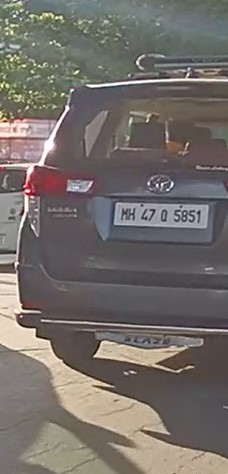MH4705851: (113, 202, 209, 228)
